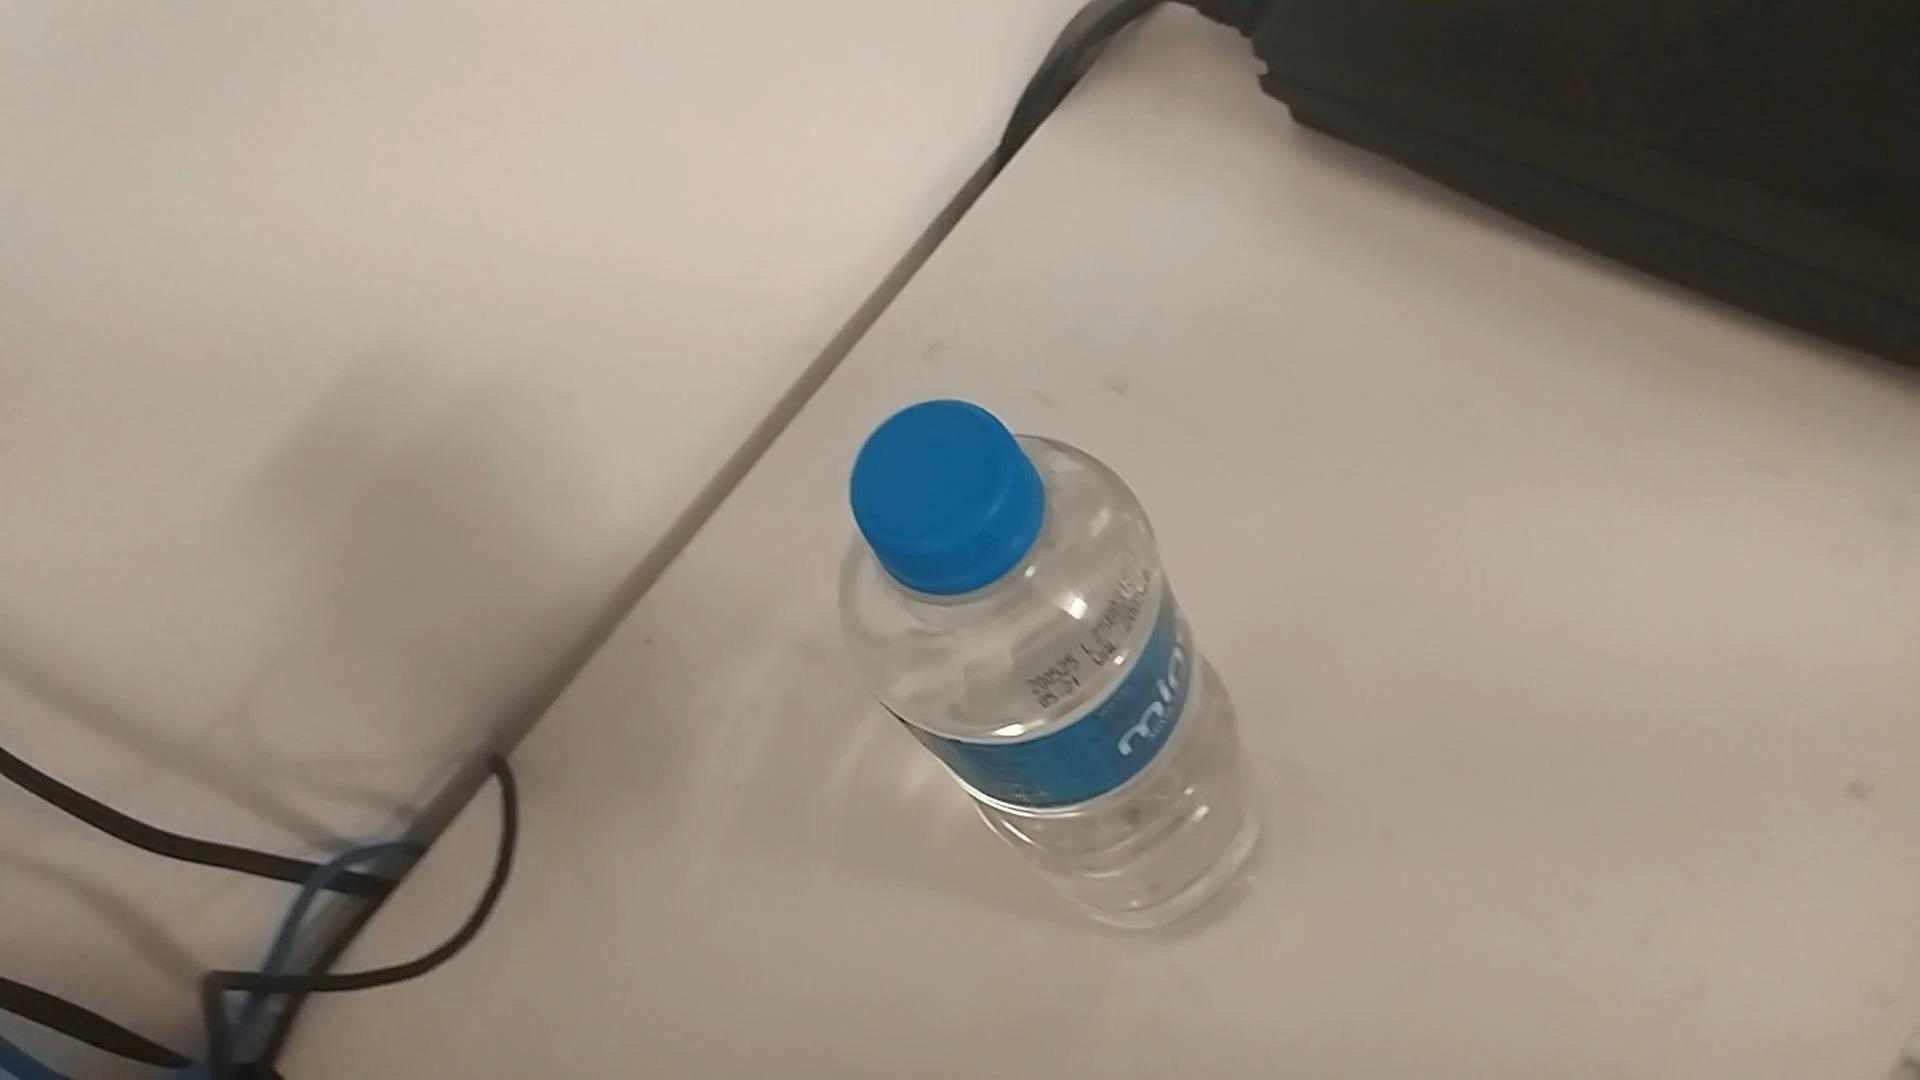agua: (844, 404, 1247, 930)
